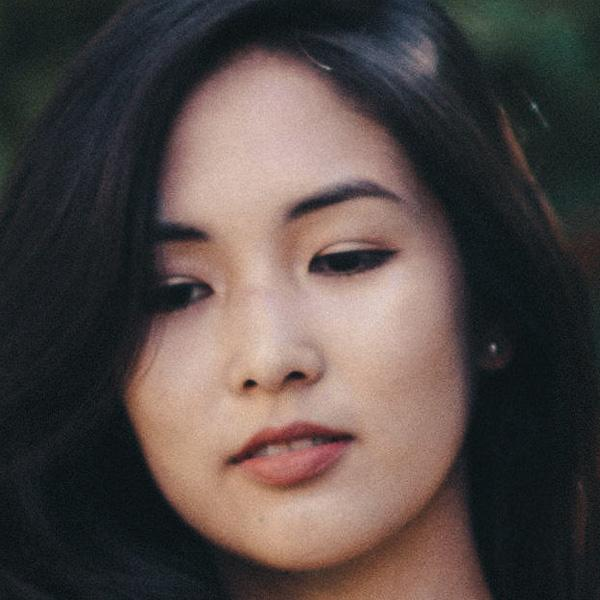Eyes: (125, 261, 222, 331), (304, 228, 402, 289)
